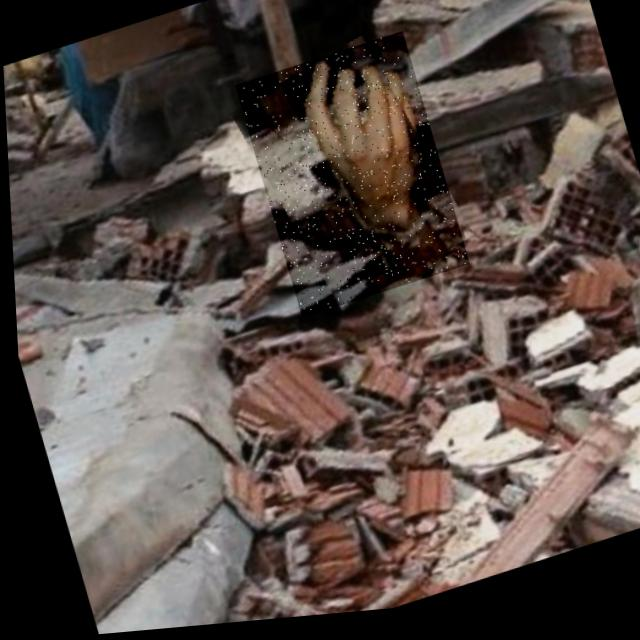Person in Rubble: (232, 34, 467, 327)
